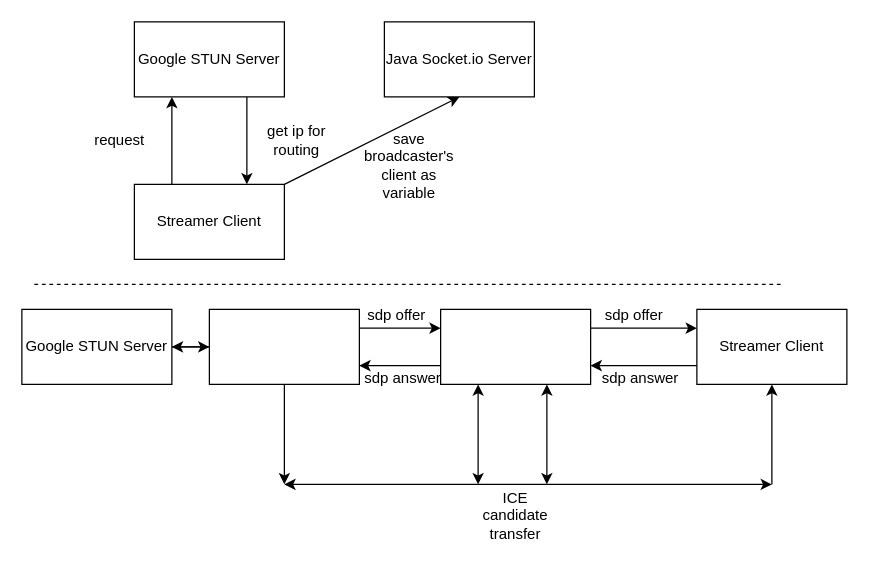
The diagram is 869 pixels wide and 564 high, and some of its shapes have lost their labels. The box of each missing label's shape, as (x1, y1, x2, y2) in pixels:
Server: (439, 308, 591, 384)
Viewer Client: (208, 308, 359, 384)
